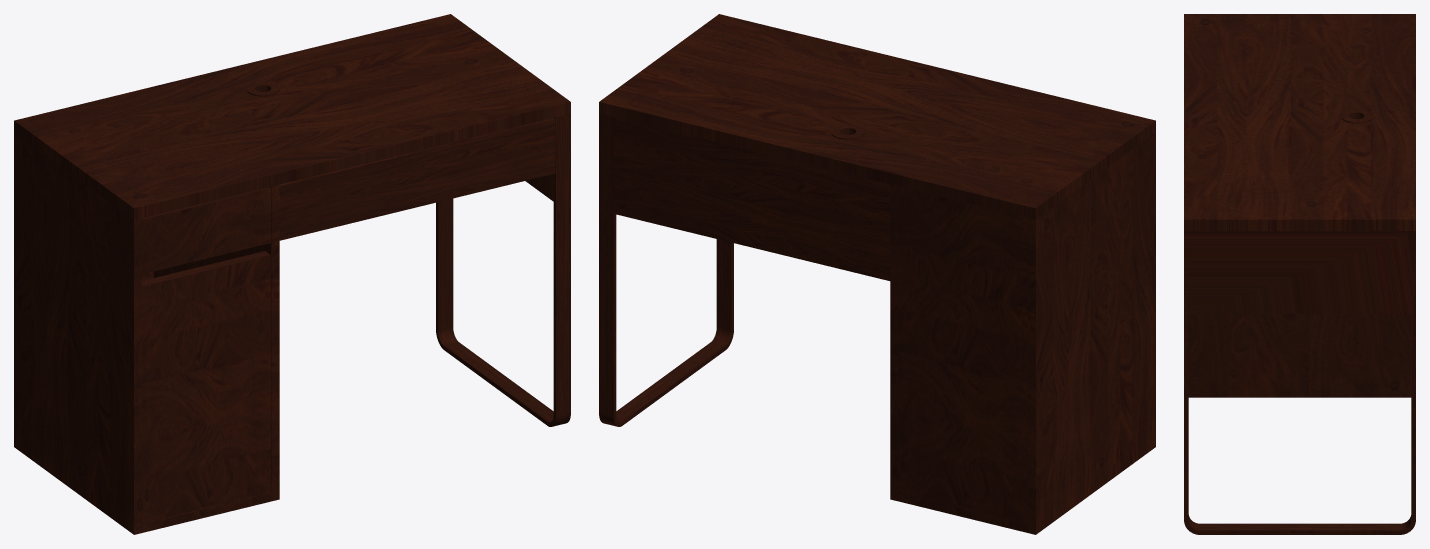
File: micke (1).fbx
3 renders of one model, left to right at view 1: azimuth 30°, elevation 25°; view 2: azimuth 150°, elevation 25°; view 3: azimuth 270°, elevation 25°, orthographic. The views are drawn at different scales.
Parts seen in each view (by area): view 1: IKE160134; view 2: IKE160134; view 3: IKE160134.
Boxes of the visible parts, left/top/right/bottom form: IKE160134: left=14, top=14, right=570, bottom=534; IKE160134: left=599, top=14, right=1155, bottom=534; IKE160134: left=1184, top=14, right=1415, bottom=534.
Bounding box in the file's own units: 105000 × 75255 × 50000.
1 material, 1 textured.
